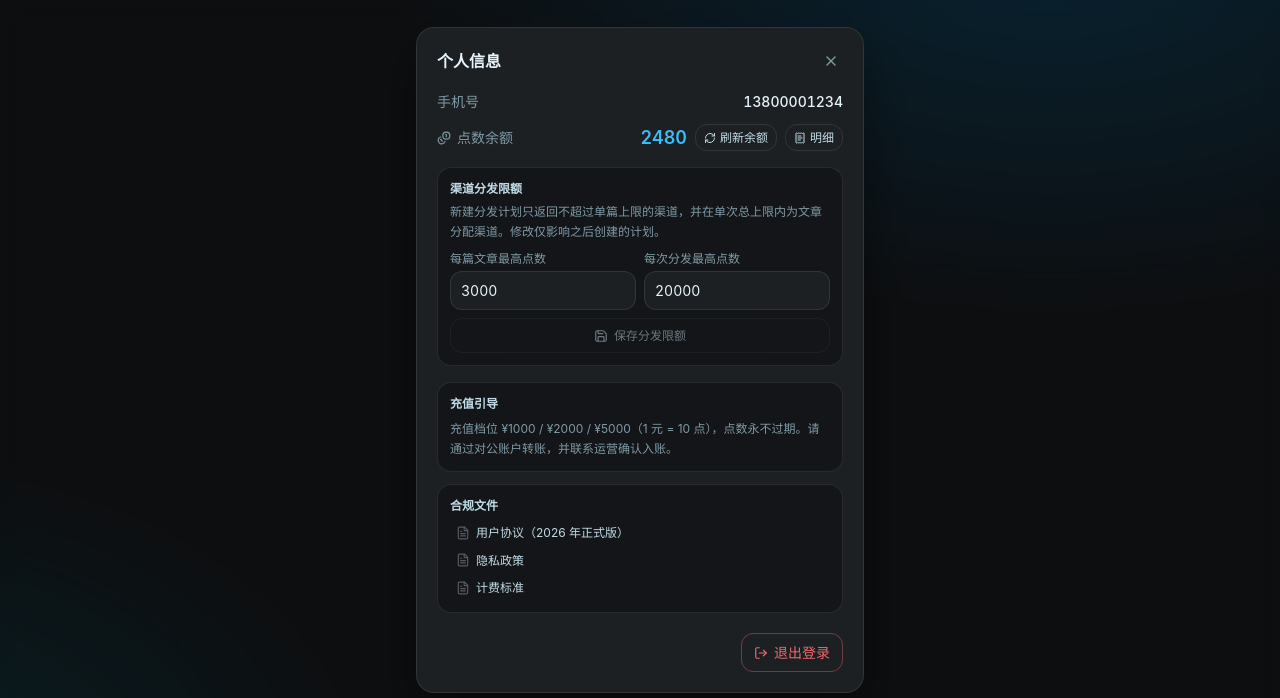
it: 个人信息弹窗的点数明细 › 点击「明细」展开流水：类型、摘要、变动与变动后余额齐全
The width and height of the screenshot is (1280, 698).
Click the button "明细": (814, 138) [785, 124, 843, 151]
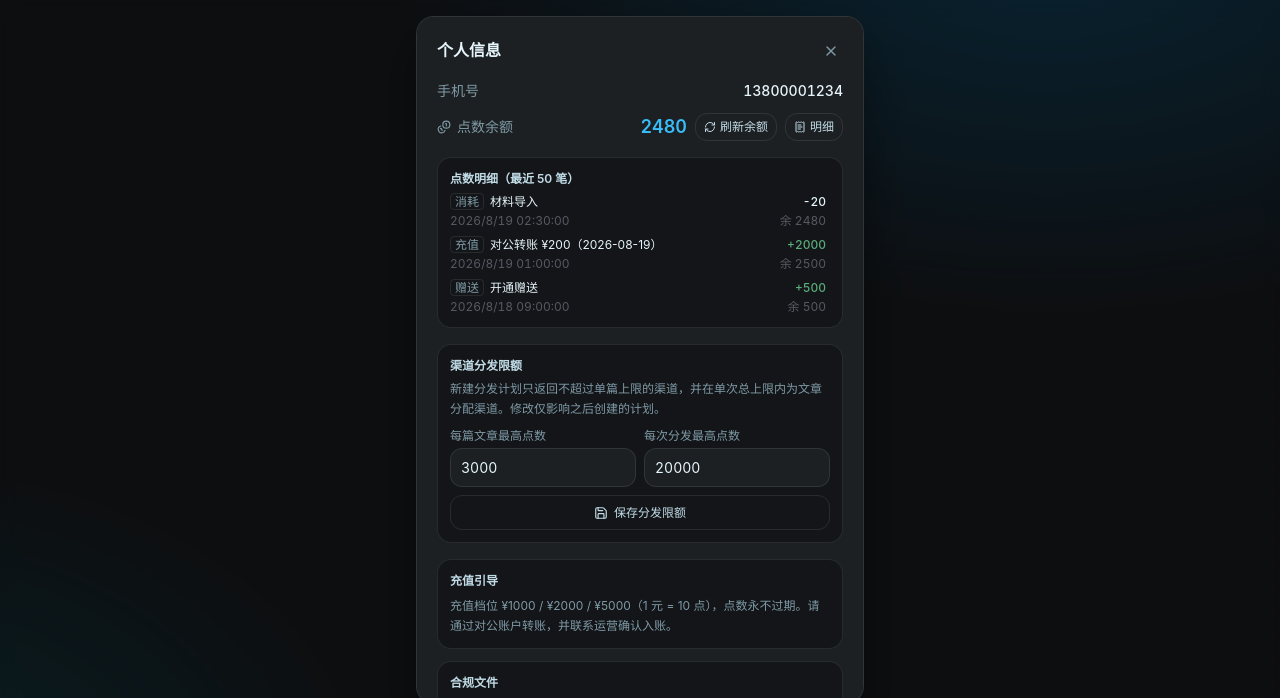
Expected: the text "点数明细（最近 50 笔）" is shown, [450, 171, 579, 186]
Expected: the text "消耗" is shown, [450, 193, 484, 210]
Expected: the text "材料导入" is shown, [490, 194, 538, 209]
